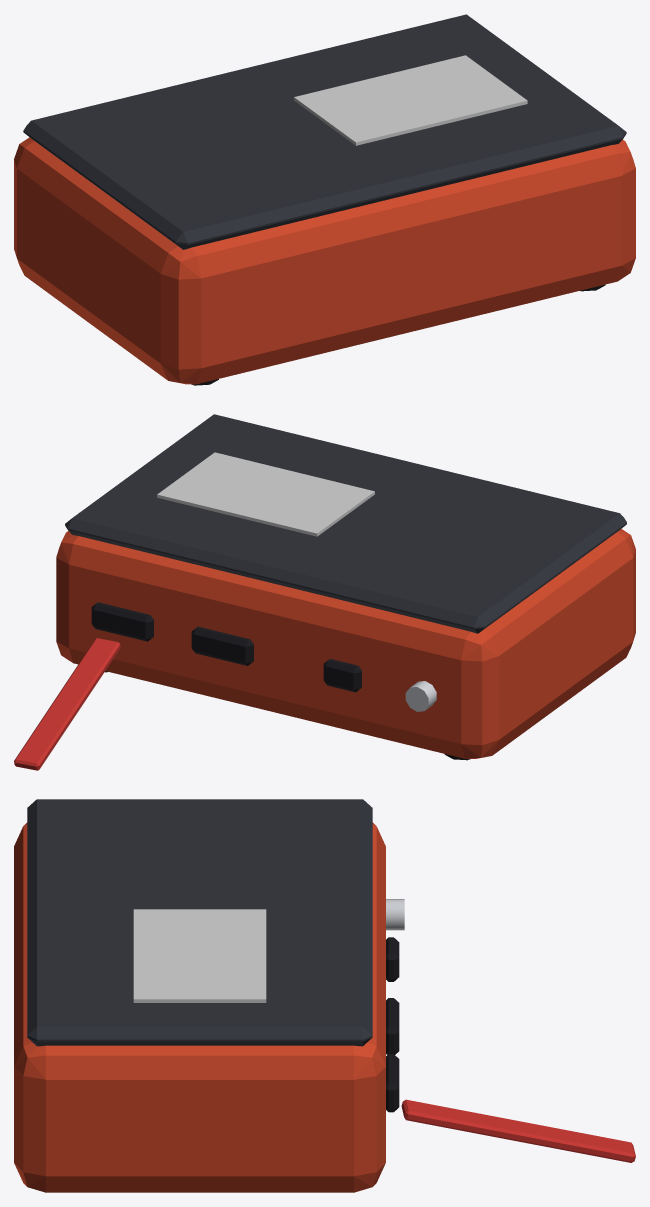
The model's file is bloqueador_escrita.obj.
3 renders of one model, top to bottom at view 1: azimuth 30°, elevation 25°; view 2: azimuth 150°, elevation 25°; view 3: azimuth 270°, elevation 25°, orthographic. The views are drawn at different scales.
Visible parts, largest first — view 1: bloqueador_escrita; view 2: bloqueador_escrita; view 3: bloqueador_escrita.
Boxes of the visible parts, x1,y1,x2,y2 form: bloqueador_escrita: (14,14,635,385); bloqueador_escrita: (14,414,635,770); bloqueador_escrita: (14,799,635,1192).
Bounding box in the file's own units: 0.22 × 0.0723 × 0.2341.
